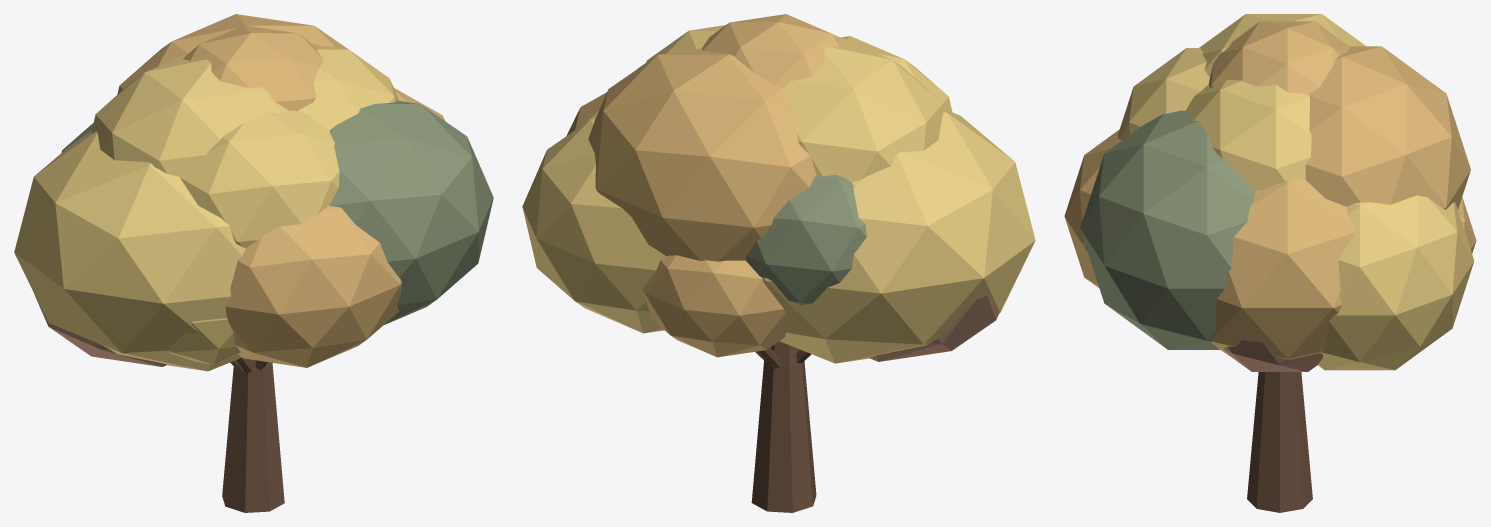
The model's file is tree_reference_oak_core_01.fbx.
The picture shows the model from 3 angles, left to right: view 1: azimuth 30°, elevation 25°; view 2: azimuth 150°, elevation 25°; view 3: azimuth 270°, elevation 25°; orthographic projection. The views are drawn at different scales.
Visible parts, largest first — view 1: leaf_reference_middle_west.002, leaf_reference_outer_south_east.002, leaf_reference_outer_south.002, leaf_reference_outer_crown_front.002, leaf_reference_upper_west.002, trunk_reference_oak.002, leaf_reference_top_peak.002, leaf_reference_upper_east.002, leaf_reference_outer_crown_back.002, leaf_reference_outer_south_west.002, leaf_reference_outer_west.002; view 2: leaf_reference_middle_west.002, leaf_reference_outer_crown_back.002, leaf_reference_outer_north_east.002, leaf_reference_upper_west.002, leaf_reference_outer_north.002, leaf_reference_outer_north_west.002, trunk_reference_oak.002, leaf_reference_top_peak.002, leaf_reference_outer_west.002, leaf_reference_outer_crown_front.002, leaf_reference_upper_east.002, leaf_reference_middle_east.002; view 3: leaf_reference_outer_south_east.002, leaf_reference_outer_crown_back.002, leaf_reference_outer_north_east.002, leaf_reference_middle_east.002, leaf_reference_upper_east.002, trunk_reference_oak.002, leaf_reference_top_peak.002, leaf_reference_outer_crown_front.002, leaf_reference_outer_south.002, leaf_reference_upper_west.002, leaf_reference_outer_east.002.
Boxes of the visible parts, x1,y1,x2,y2 form: leaf_reference_middle_west.002: (14,131,245,371); leaf_reference_outer_south_east.002: (329,100,493,324); leaf_reference_outer_south.002: (225,206,401,367); leaf_reference_outer_crown_front.002: (180,110,339,247); leaf_reference_upper_west.002: (91,54,288,176); trunk_reference_oak.002: (222,359,284,512); leaf_reference_top_peak.002: (183,25,323,110); leaf_reference_upper_east.002: (298,44,398,129); leaf_reference_outer_crown_back.002: (117,14,348,94); leaf_reference_outer_south_west.002: (169,318,240,364); leaf_reference_outer_west.002: (33,292,166,366); leaf_reference_middle_west.002: (762,111,1035,363); leaf_reference_outer_crown_back.002: (588,48,816,261); leaf_reference_outer_north_east.002: (522,118,665,333); leaf_reference_upper_west.002: (783,34,945,181); leaf_reference_outer_north.002: (643,255,785,357); leaf_reference_outer_north_west.002: (745,175,866,304); trunk_reference_oak.002: (751,341,816,512); leaf_reference_top_peak.002: (701,14,845,88); leaf_reference_outer_west.002: (869,296,998,361); leaf_reference_outer_crown_front.002: (841,36,952,112); leaf_reference_upper_east.002: (646,25,725,62); leaf_reference_middle_east.002: (566,92,606,135); leaf_reference_outer_south_east.002: (1080,110,1254,349); leaf_reference_outer_crown_back.002: (1305,46,1470,209); leaf_reference_outer_north_east.002: (1318,195,1474,370); leaf_reference_middle_east.002: (1211,179,1355,359); leaf_reference_upper_east.002: (1185,79,1311,190); trunk_reference_oak.002: (1247,372,1312,512); leaf_reference_top_peak.002: (1209,21,1350,93); leaf_reference_outer_crown_front.002: (1117,48,1209,140); leaf_reference_outer_south.002: (1064,129,1121,288); leaf_reference_upper_west.002: (1199,14,1365,77); leaf_reference_outer_east.002: (1224,340,1322,371).
Size of the model in its own units: 506 by 537 by 425.
